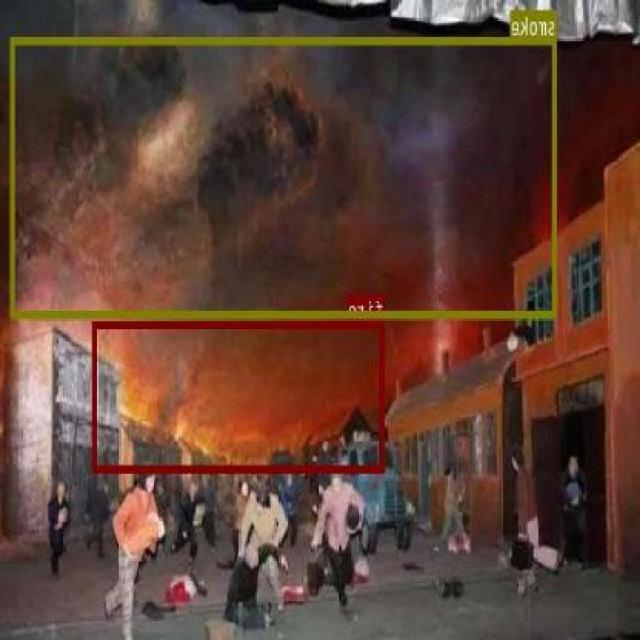Fire: (92, 319, 386, 472)
Smoke: (11, 35, 558, 317)
